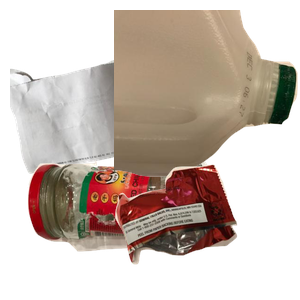glass: (25, 155, 227, 300)
paper: (10, 39, 236, 205)
plastic: (114, 10, 300, 179)
trash: (113, 162, 300, 300)
